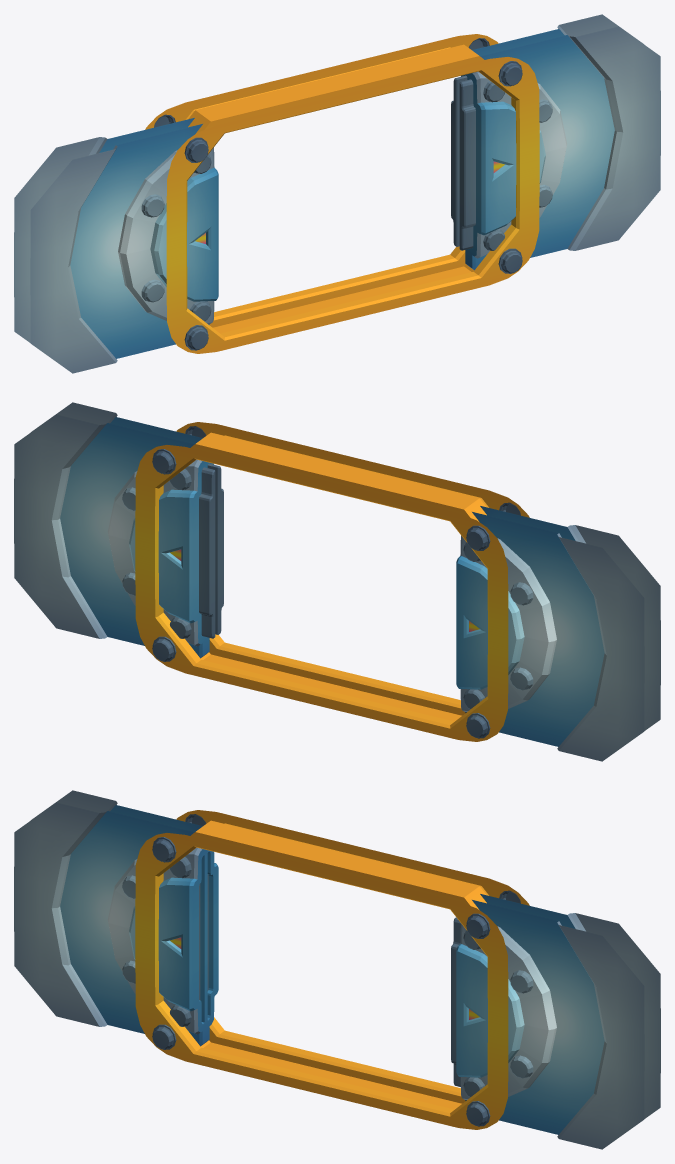
File: Level Door.fbx
The picture shows the model from 3 angles, top to bottom: view 1: azimuth 30°, elevation 25°; view 2: azimuth 150°, elevation 25°; view 3: azimuth 330°, elevation 25°; orthographic projection.
Visible parts, largest first — view 1: Main Door L, Main Door R, Main DoorFrame; view 2: Main Door L, Main Door R, Main DoorFrame; view 3: Main Door R, Main Door L, Main DoorFrame.
Boxes of the visible parts, <box> form: Main Door L: <box>14,118,218,373</box>; Main Door R: <box>451,14,660,270</box>; Main DoorFrame: <box>145,34,539,353</box>; Main Door L: <box>456,506,660,761</box>; Main Door R: <box>14,402,223,658</box>; Main DoorFrame: <box>135,422,529,741</box>; Main Door R: <box>451,894,660,1149</box>; Main Door L: <box>14,790,218,1046</box>; Main DoorFrame: <box>135,810,529,1129</box>.
Bounding box in the file's own units: 3600 × 1236 × 387.
